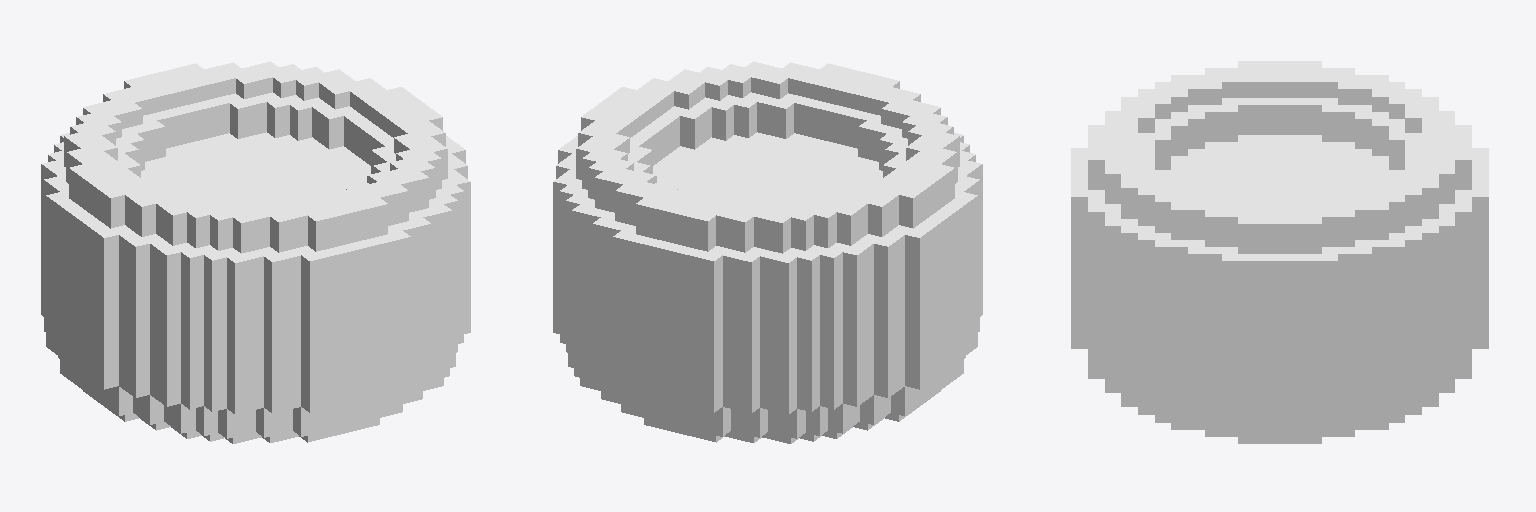
Rendered from Plantpot.obj.
The picture shows the model from 3 angles: view 1: azimuth 30°, elevation 25°; view 2: azimuth 150°, elevation 25°; view 3: azimuth 270°, elevation 25°; orthographic projection.
Visible parts, largest first — view 1: Plantpot; view 2: Plantpot; view 3: Plantpot.
Part boxes in pixels (x1,y1,x2,y2): Plantpot: (41,61,470,443); Plantpot: (553,61,982,443); Plantpot: (1071,61,1488,443).
Size of the model in its own units: 25 by 15 by 25.